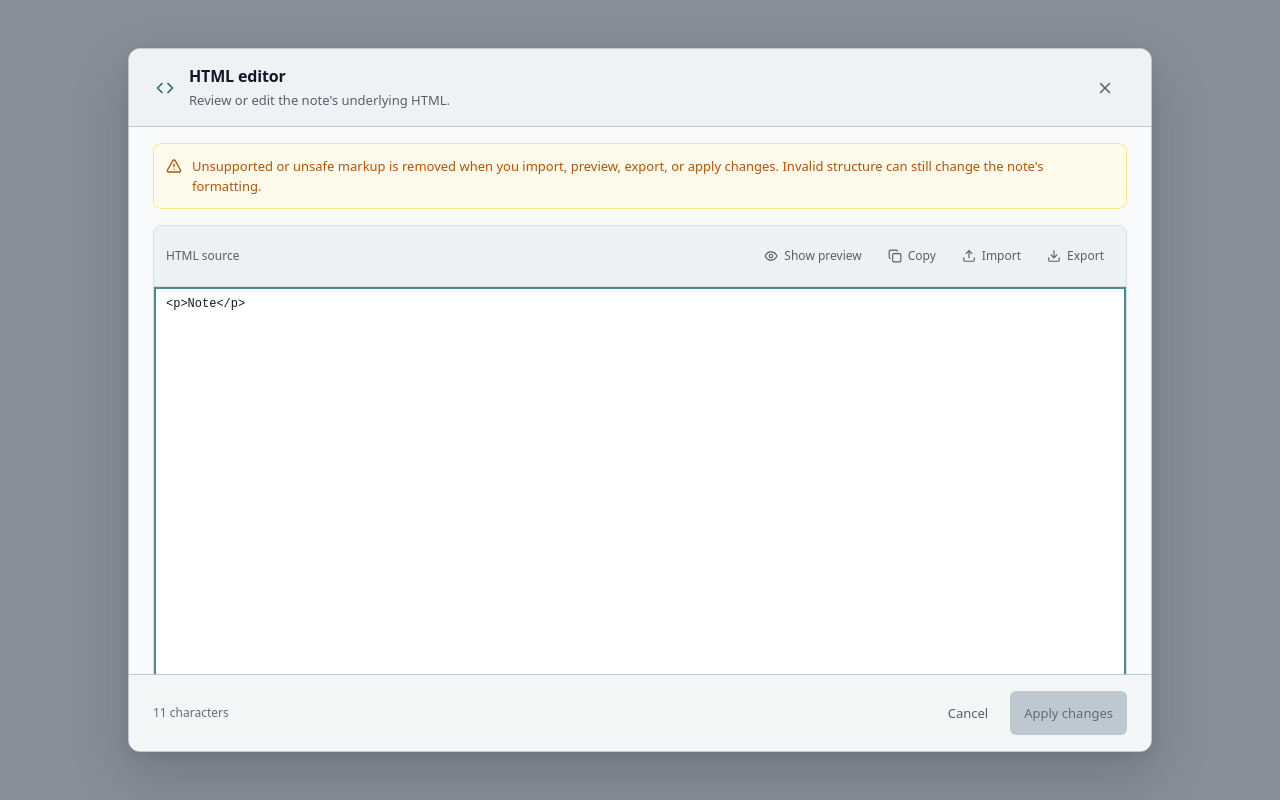
Test: HTMLEditorModal › reports blocked clipboard access and leaves the selectable source focused
Click the button "Copy" at {"x": 912, "y": 256}, box x1=878 y1=234 x2=946 y2=278
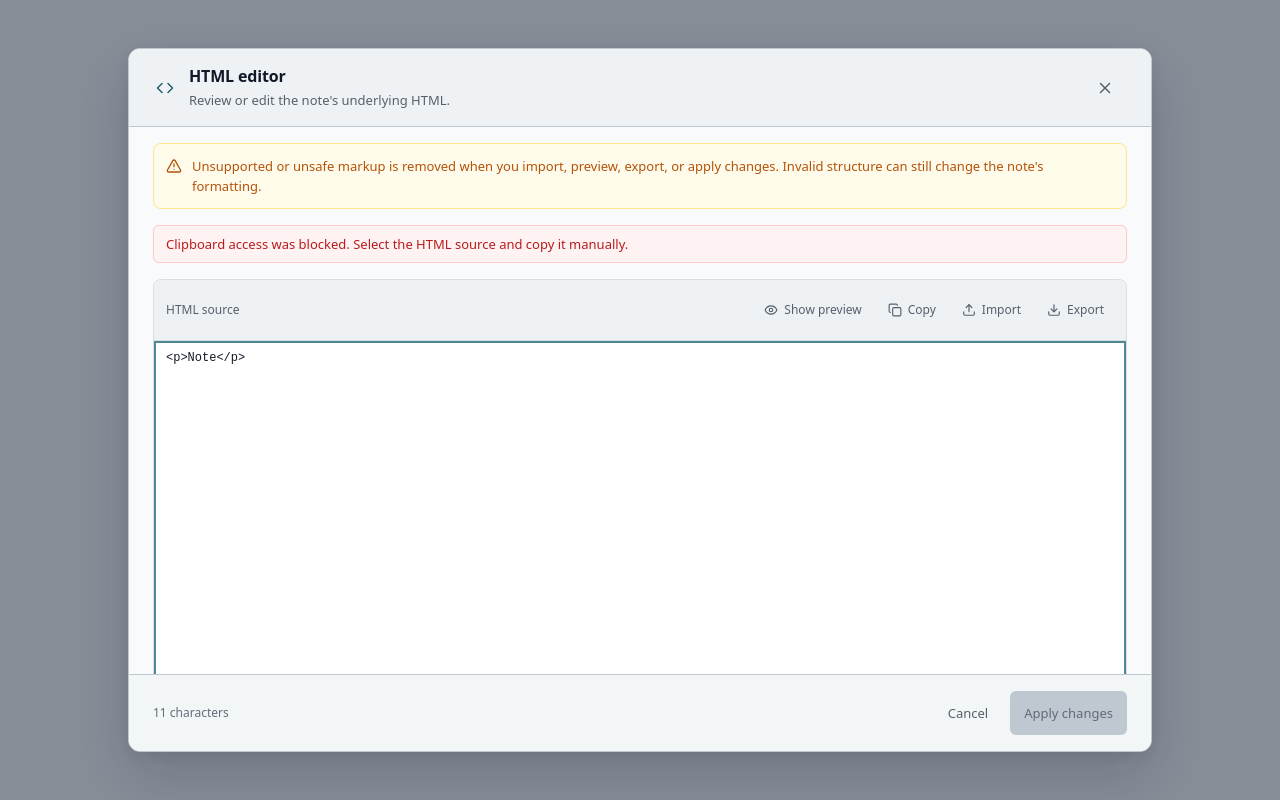
Expected: the message shows "Clipboard access was blocked", x1=166 y1=235 x2=628 y2=253
